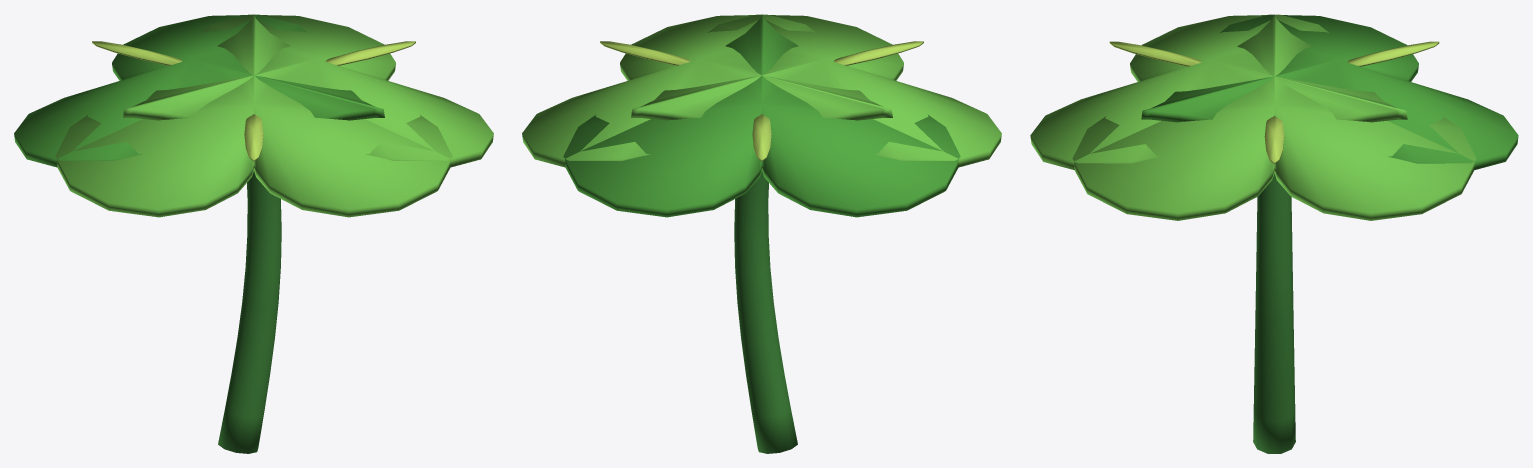
Rendered from glade_clover.glb.
3 views of the same model, side by side, from view 1: azimuth 30°, elevation 25°; view 2: azimuth 150°, elevation 25°; view 3: azimuth 270°, elevation 25° (orthographic).
Parts seen in each view (by area): view 1: glade_clover; view 2: glade_clover; view 3: glade_clover.
Boxes of the visible parts, left/top/right/bottom form: glade_clover: left=14, top=14, right=493, bottom=453; glade_clover: left=522, top=14, right=1001, bottom=453; glade_clover: left=1030, top=14, right=1518, bottom=453.
Bounding box in the file's own units: 15.14 × 14 × 16.38.
